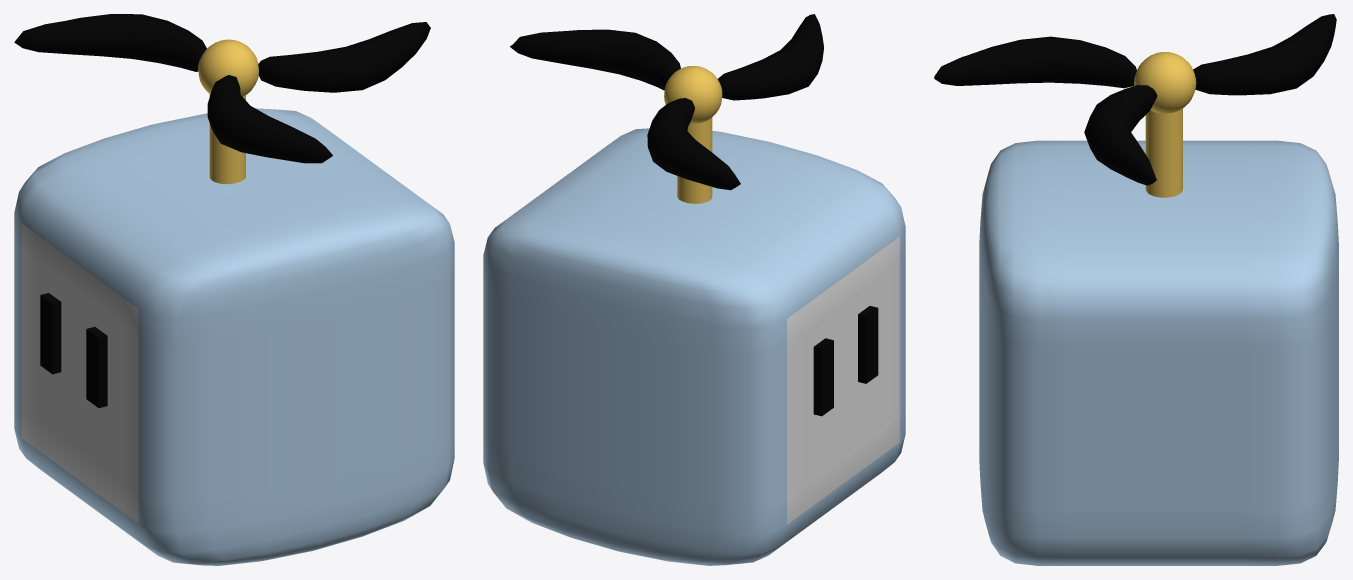
File: FlyingNPC.fbx
3 renders of one model, left to right at view 1: azimuth 30°, elevation 25°; view 2: azimuth 150°, elevation 25°; view 3: azimuth 270°, elevation 25°, orthographic. The views are drawn at different scales.
Parts seen in each view (by area): view 1: head1, blade2, blade1, blade3, pSphere1, eye1, eye2, stem1; view 2: head1, blade1, blade3, blade2, pSphere1, eye2, eye1, stem1; view 3: head1, blade3, blade2, blade1, stem1, pSphere1.
Part boxes in pixels (left/top/right/bottom): head1: left=14, top=108, right=454, bottom=565; blade2: left=14, top=14, right=206, bottom=71; blade1: left=258, top=22, right=430, bottom=92; blade3: left=207, top=75, right=332, bottom=163; pSphere1: left=198, top=39, right=258, bottom=96; eye1: left=40, top=293, right=61, bottom=374; eye2: left=86, top=327, right=107, bottom=407; stem1: left=209, top=94, right=245, bottom=184; head1: left=483, top=128, right=905, bottom=565; blade1: left=510, top=29, right=680, bottom=90; blade3: left=717, top=14, right=823, bottom=100; blade2: left=647, top=98, right=740, bottom=190; pSphere1: left=664, top=66, right=722, bottom=123; eye2: left=858, top=306, right=878, bottom=383; eye1: left=813, top=338, right=833, bottom=416; stem1: left=677, top=117, right=712, bottom=203; head1: left=979, top=140, right=1338, bottom=565; blade3: left=934, top=36, right=1136, bottom=88; blade2: left=1193, top=14, right=1336, bottom=95; blade1: left=1084, top=85, right=1157, bottom=185; stem1: left=1145, top=108, right=1182, bottom=197; pSphere1: left=1134, top=52, right=1196, bottom=113.
Size of the model in its own units: 189 by 230 by 183.
